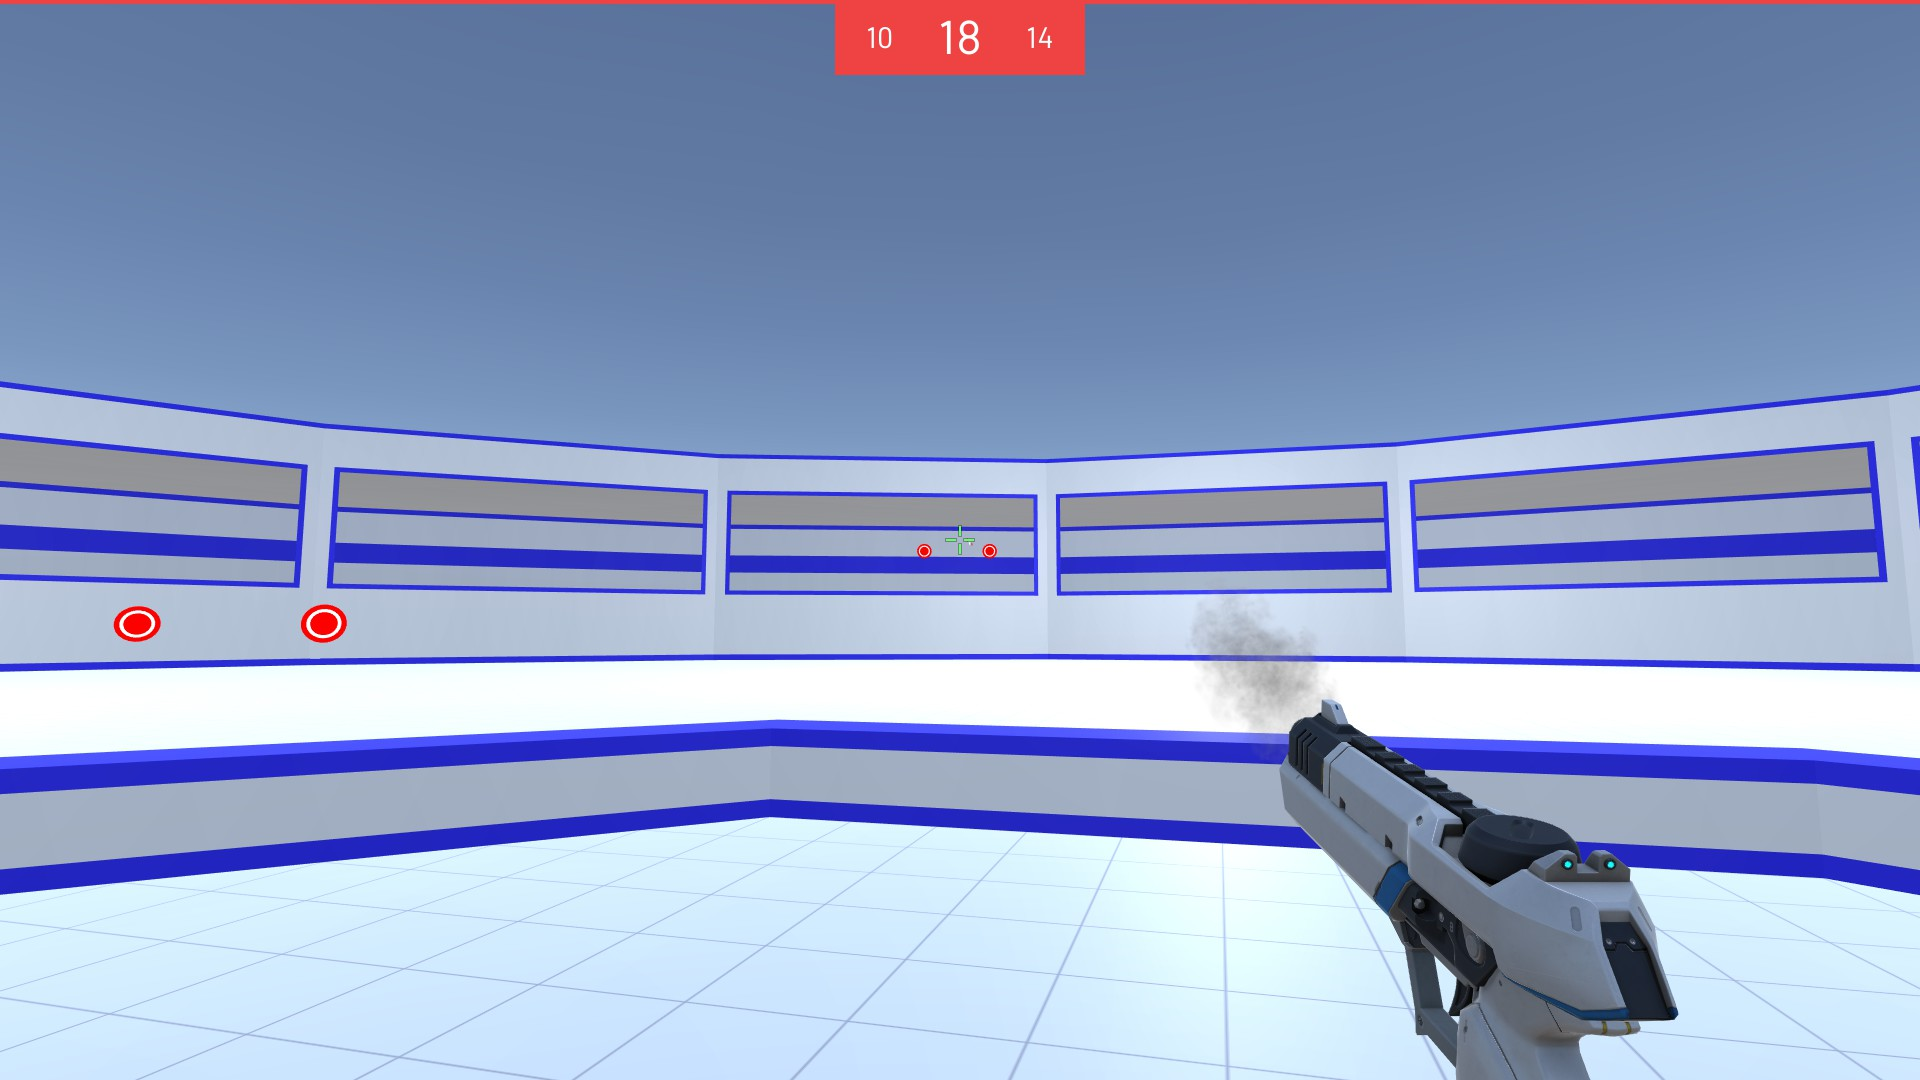target: (111, 605, 164, 644), (301, 603, 348, 642), (981, 542, 1000, 559), (916, 543, 934, 559)
